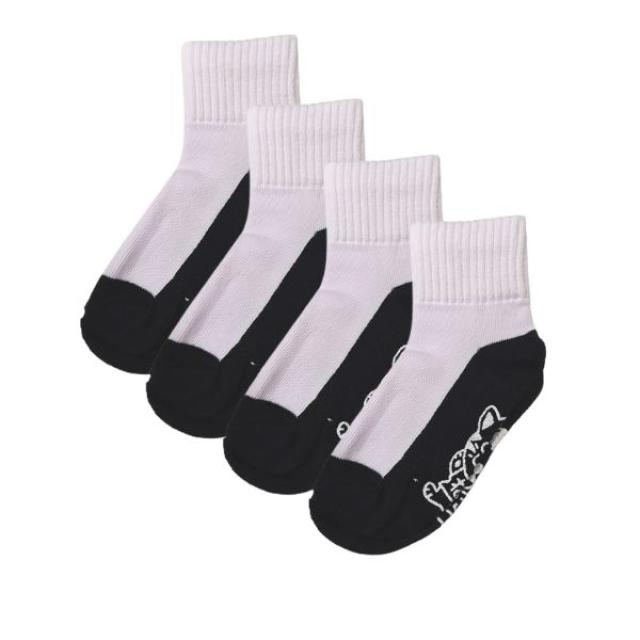sock: (308, 213, 546, 555), (222, 152, 443, 495), (79, 33, 301, 374), (145, 97, 365, 438)
